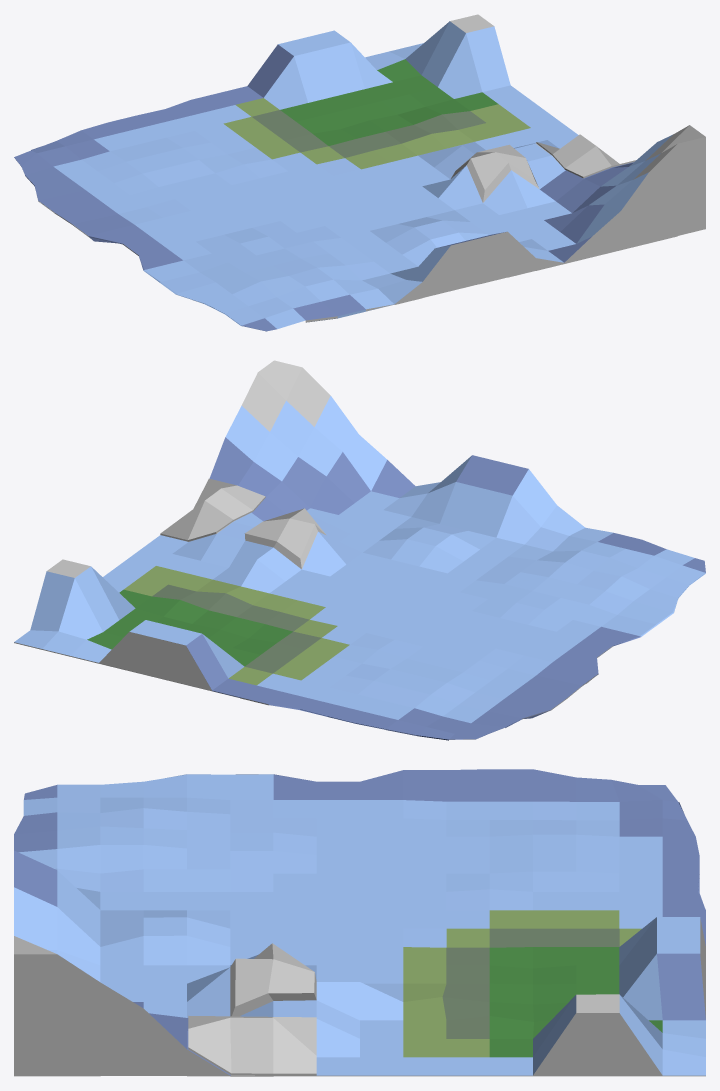
Rendered from gameground2.fbx.
3 views of the same model, one above another, from view 1: azimuth 30°, elevation 25°; view 2: azimuth 150°, elevation 25°; view 3: azimuth 270°, elevation 25° (orthographic). The views are drawn at different scales.
Visible parts, largest first — view 1: GameGround; view 2: GameGround; view 3: GameGround.
Part boxes in pixels (x1,y1,x2,y2): GameGround: (14,14,705,331); GameGround: (14,360,705,740); GameGround: (14,769,705,1076).
Size of the model in its own units: 286 by 60.65 by 273.
